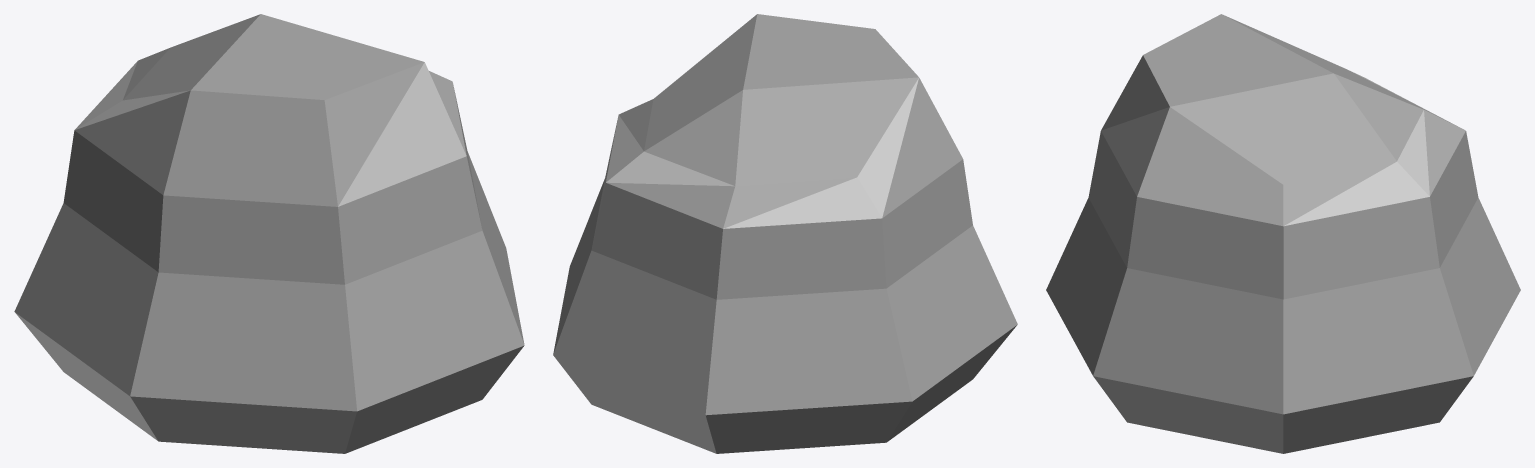
File: rock_5.fbx
3 renders of one model, left to right at view 1: azimuth 30°, elevation 25°; view 2: azimuth 150°, elevation 25°; view 3: azimuth 270°, elevation 25°, orthographic. The views are drawn at different scales.
Visible parts, largest first — view 1: rock_5; view 2: rock_5; view 3: rock_5.
Part boxes in pixels (left/top/right/bottom): rock_5: left=14, top=14, right=524, bottom=453; rock_5: left=553, top=14, right=1017, bottom=453; rock_5: left=1046, top=14, right=1520, bottom=453.
Size of the model in its own units: 58.24 by 42.34 by 60.44.
